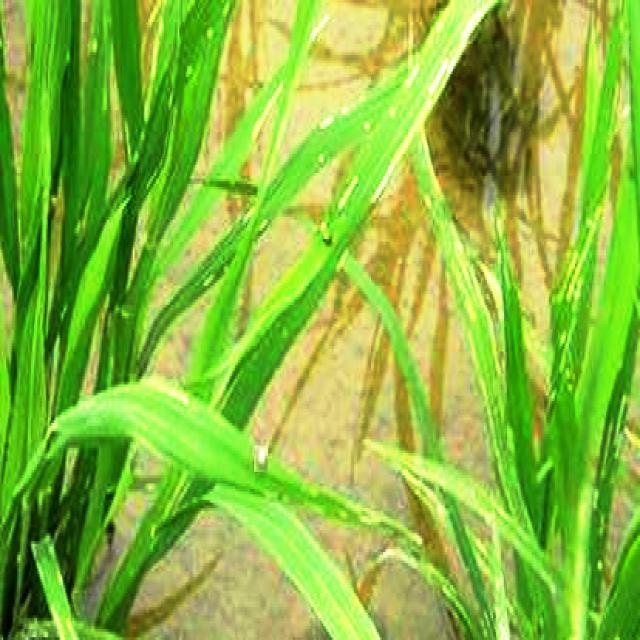rice-bug: (318, 212, 334, 246), (254, 446, 268, 472)
